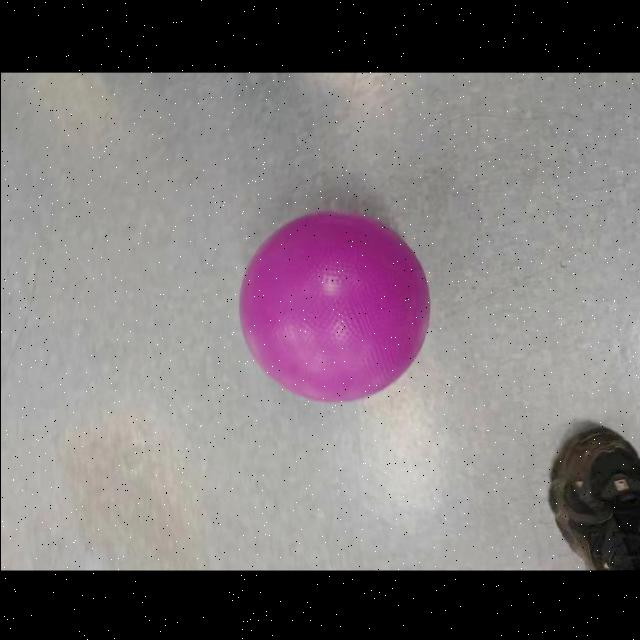P: (232, 209, 440, 409)
